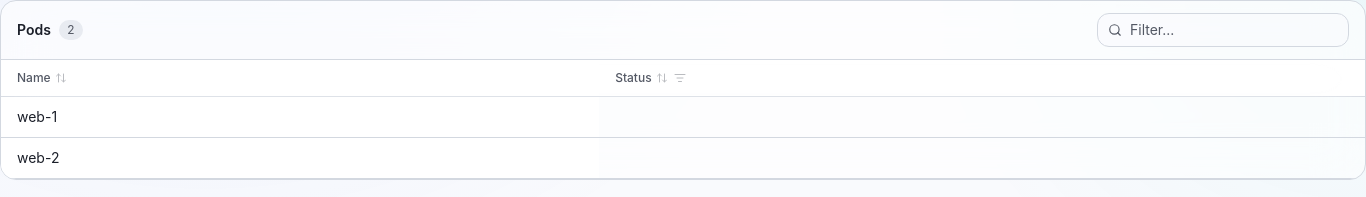
DataTable › facet filter › shows "No values" when the faceted column has nothing to filter on
The image size is (1366, 197).
Click the button titled "Filter column": click(680, 78) [672,70,688,86]
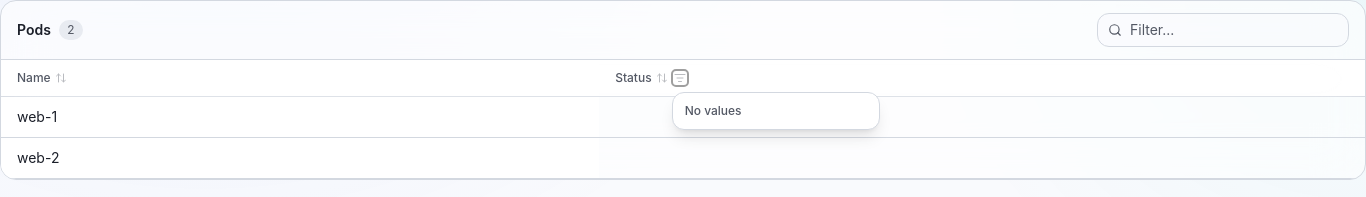
Result: the text "No values" is shown at [685,103,742,118]
